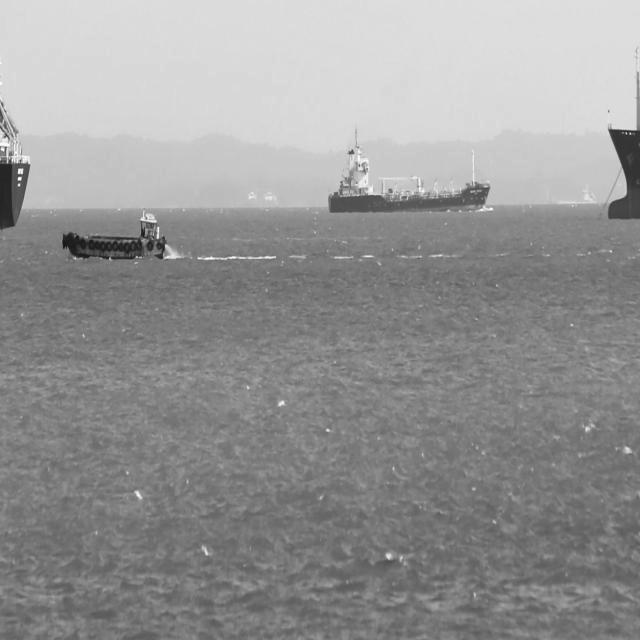ship: (328, 126, 490, 216), (607, 44, 640, 218), (61, 208, 168, 258), (0, 94, 31, 227)
